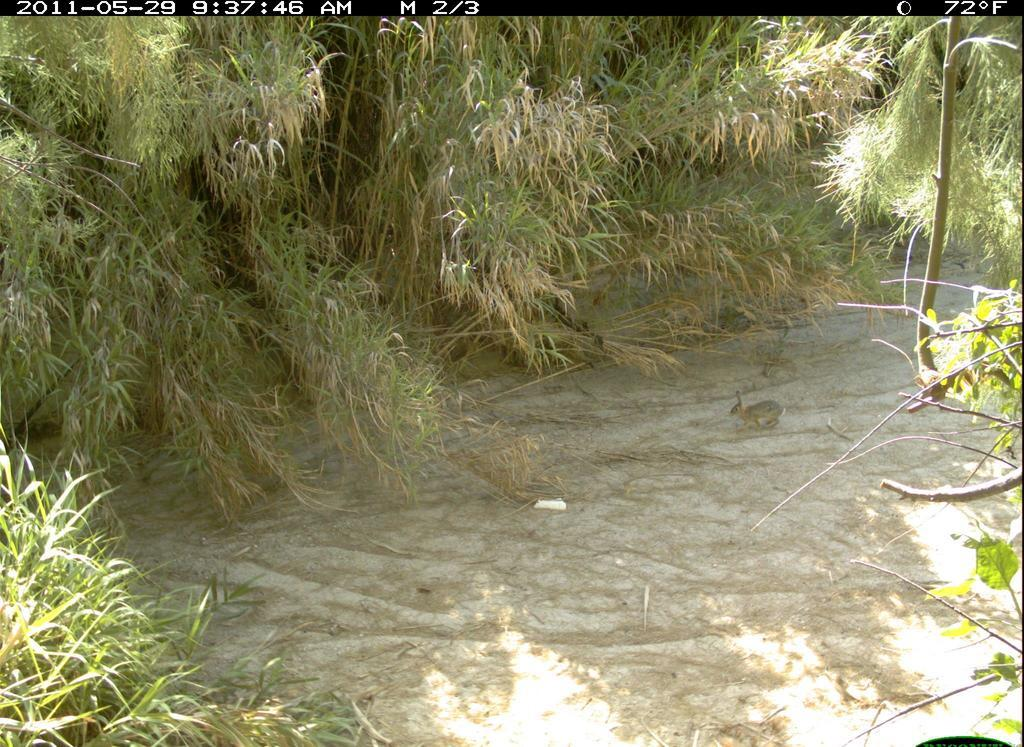rabbit: (705, 381, 795, 442)
